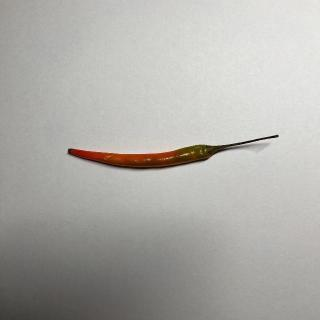Cabai Merah: (68, 135, 280, 169)
